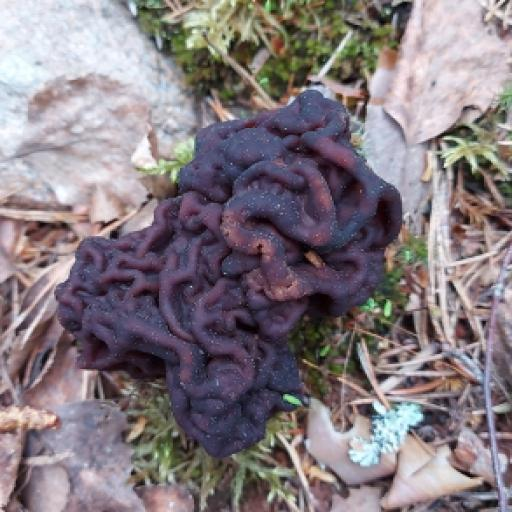mushroom: (46, 55, 451, 461)
